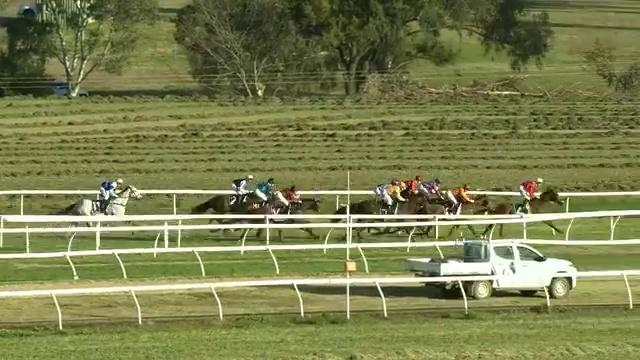racing-horse: (52, 174, 148, 239), (497, 171, 568, 253), (186, 168, 258, 241), (233, 174, 297, 255), (349, 174, 419, 240), (271, 179, 329, 250), (445, 175, 497, 247), (420, 175, 462, 238), (407, 170, 427, 237)
